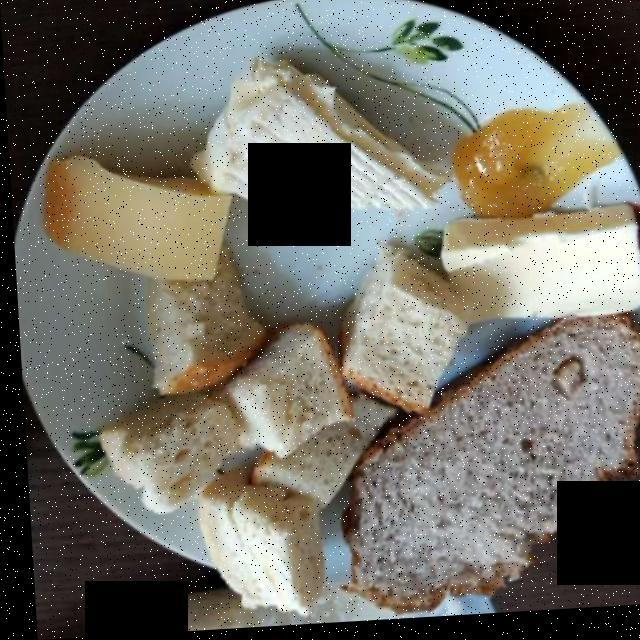bread: (104, 248, 444, 612), (322, 329, 640, 607)
butter: (440, 214, 636, 330)
cheese: (191, 50, 442, 224), (44, 159, 228, 288)
honey: (440, 110, 616, 233)
